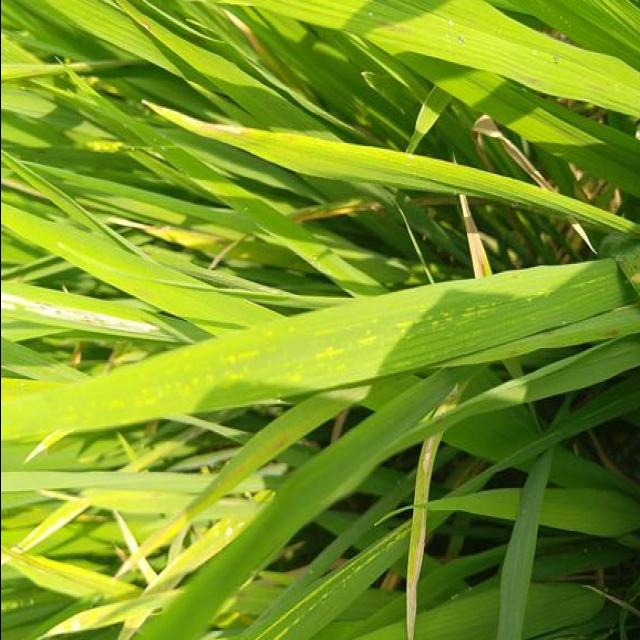Leaf Streak: (0, 258, 633, 439), (0, 286, 164, 338), (405, 432, 444, 640), (460, 195, 486, 276), (434, 385, 460, 420)
